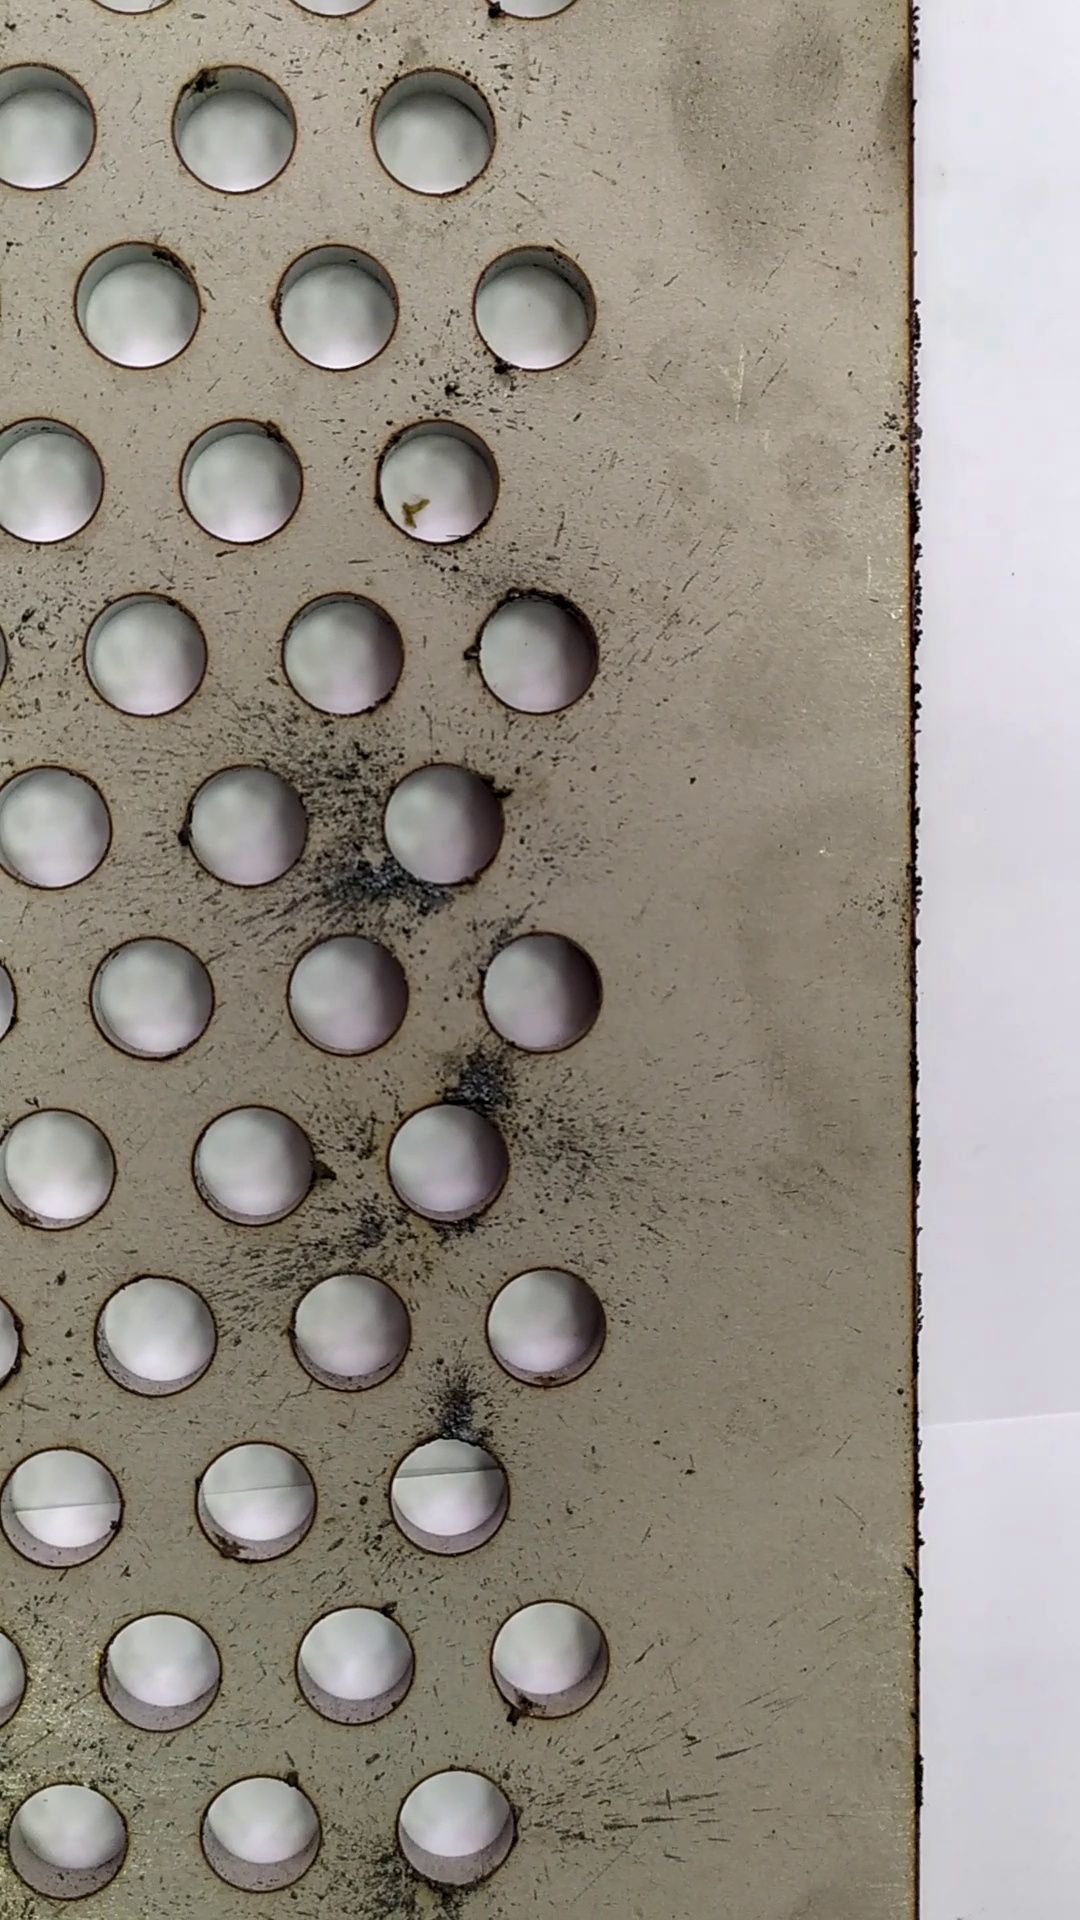Hole: (255, 224, 425, 386), (144, 54, 311, 203), (465, 924, 632, 1069), (369, 1758, 530, 1903), (462, 232, 616, 381), (378, 1420, 534, 1567), (471, 1592, 628, 1734), (272, 1262, 430, 1403), (359, 58, 512, 203), (371, 1091, 527, 1232), (262, 583, 419, 723), (4, 1760, 149, 1911), (173, 1095, 324, 1238), (173, 754, 320, 899), (79, 1265, 236, 1399), (75, 587, 222, 731), (463, 579, 618, 713), (363, 409, 506, 554), (63, 229, 210, 371), (185, 1429, 322, 1578), (185, 1771, 343, 1899), (266, 926, 415, 1062), (373, 754, 512, 899), (479, 1261, 626, 1396), (280, 1597, 429, 1730), (76, 928, 224, 1060), (175, 413, 314, 549), (1, 1437, 135, 1571), (94, 1605, 225, 1731)
